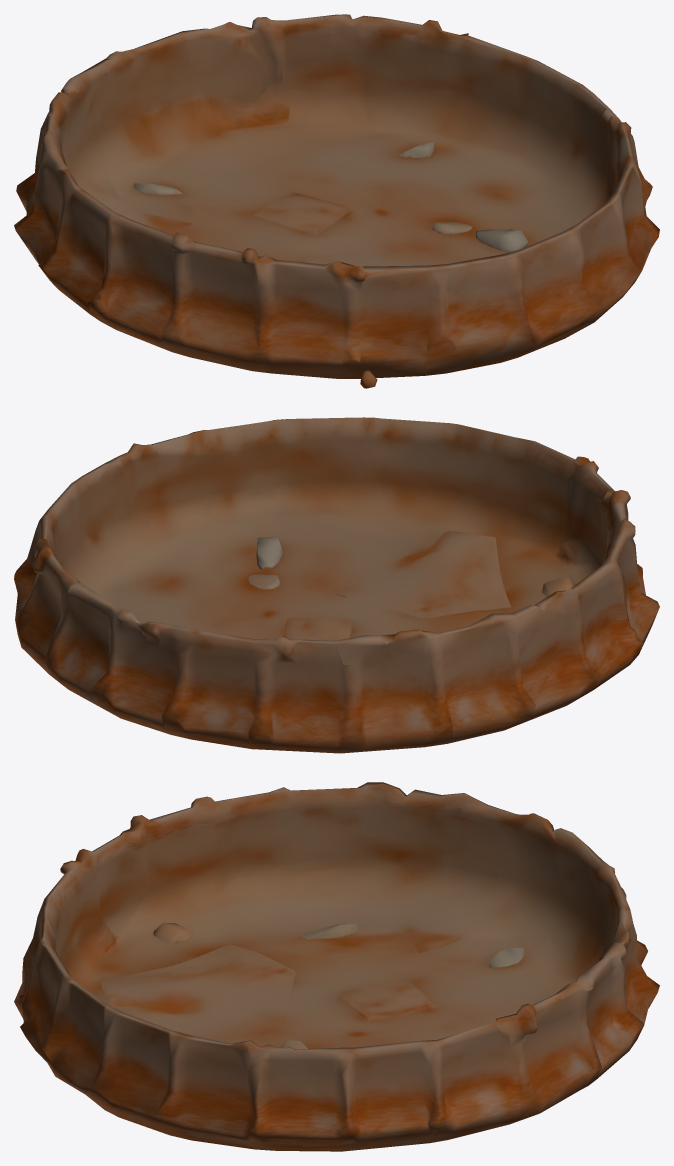
Rendered from disk_junk.glb.
The picture shows the model from 3 angles, top to bottom: view 1: azimuth 30°, elevation 25°; view 2: azimuth 150°, elevation 25°; view 3: azimuth 270°, elevation 25°; orthographic projection.
Parts seen in each view (by area): view 1: tripo_node_4cc377d6-2fda-43cb-9d98-50fe32ab23f6; view 2: tripo_node_4cc377d6-2fda-43cb-9d98-50fe32ab23f6; view 3: tripo_node_4cc377d6-2fda-43cb-9d98-50fe32ab23f6.
Part boxes in pixels (box(x1,y1,x2,y2)): tripo_node_4cc377d6-2fda-43cb-9d98-50fe32ab23f6: box(14, 14, 659, 388); tripo_node_4cc377d6-2fda-43cb-9d98-50fe32ab23f6: box(14, 417, 659, 753); tripo_node_4cc377d6-2fda-43cb-9d98-50fe32ab23f6: box(14, 782, 659, 1151).
Bounding box in the file's own units: 0.9956 × 0.2251 × 0.9995.
1 material, 1 textured.
